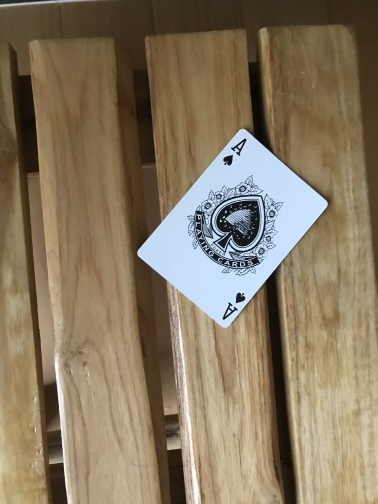ace: (136, 127, 329, 330)
